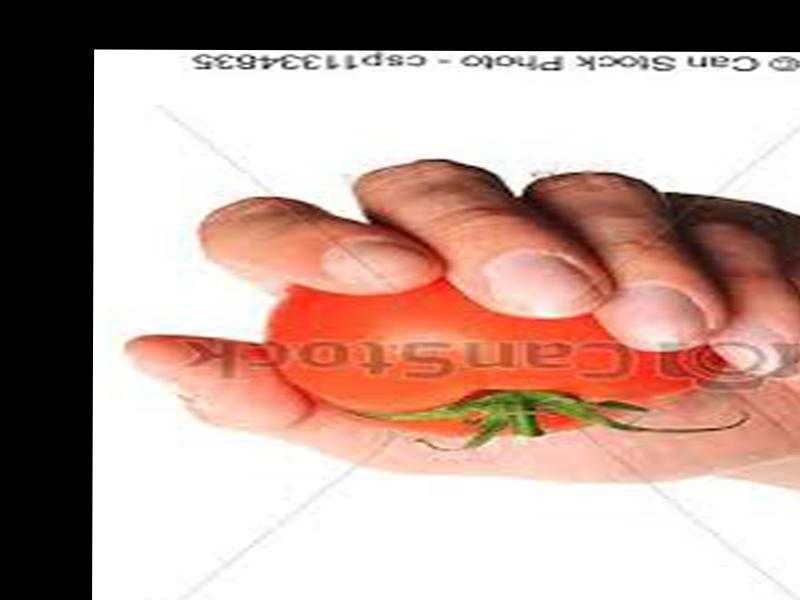Tomato: (266, 281, 722, 434)
